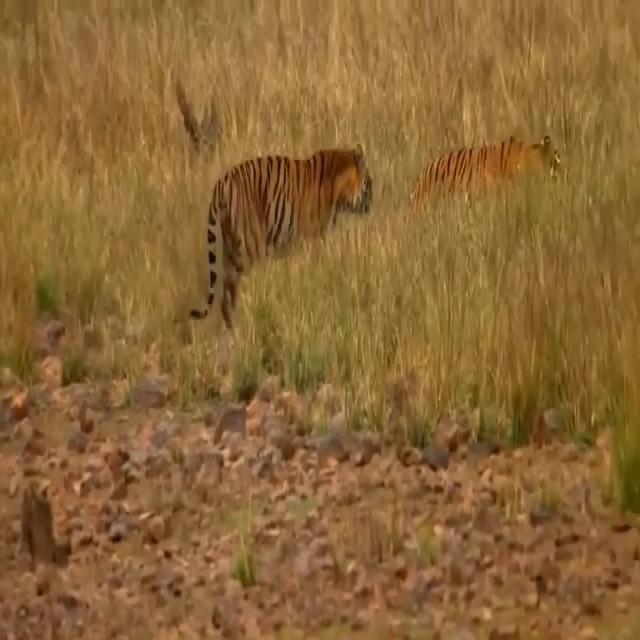tiger: (190, 143, 372, 334), (408, 134, 562, 216)
